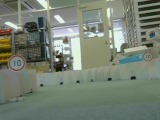speed_10: (5, 54, 27, 73), (142, 50, 154, 63)
